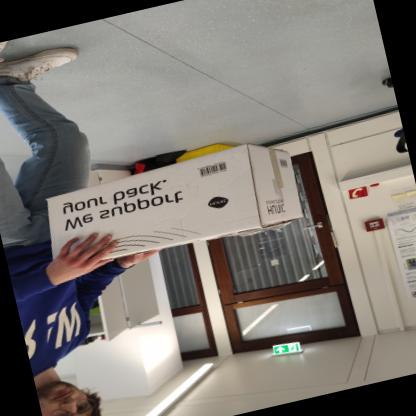box: (17, 120, 328, 296)
